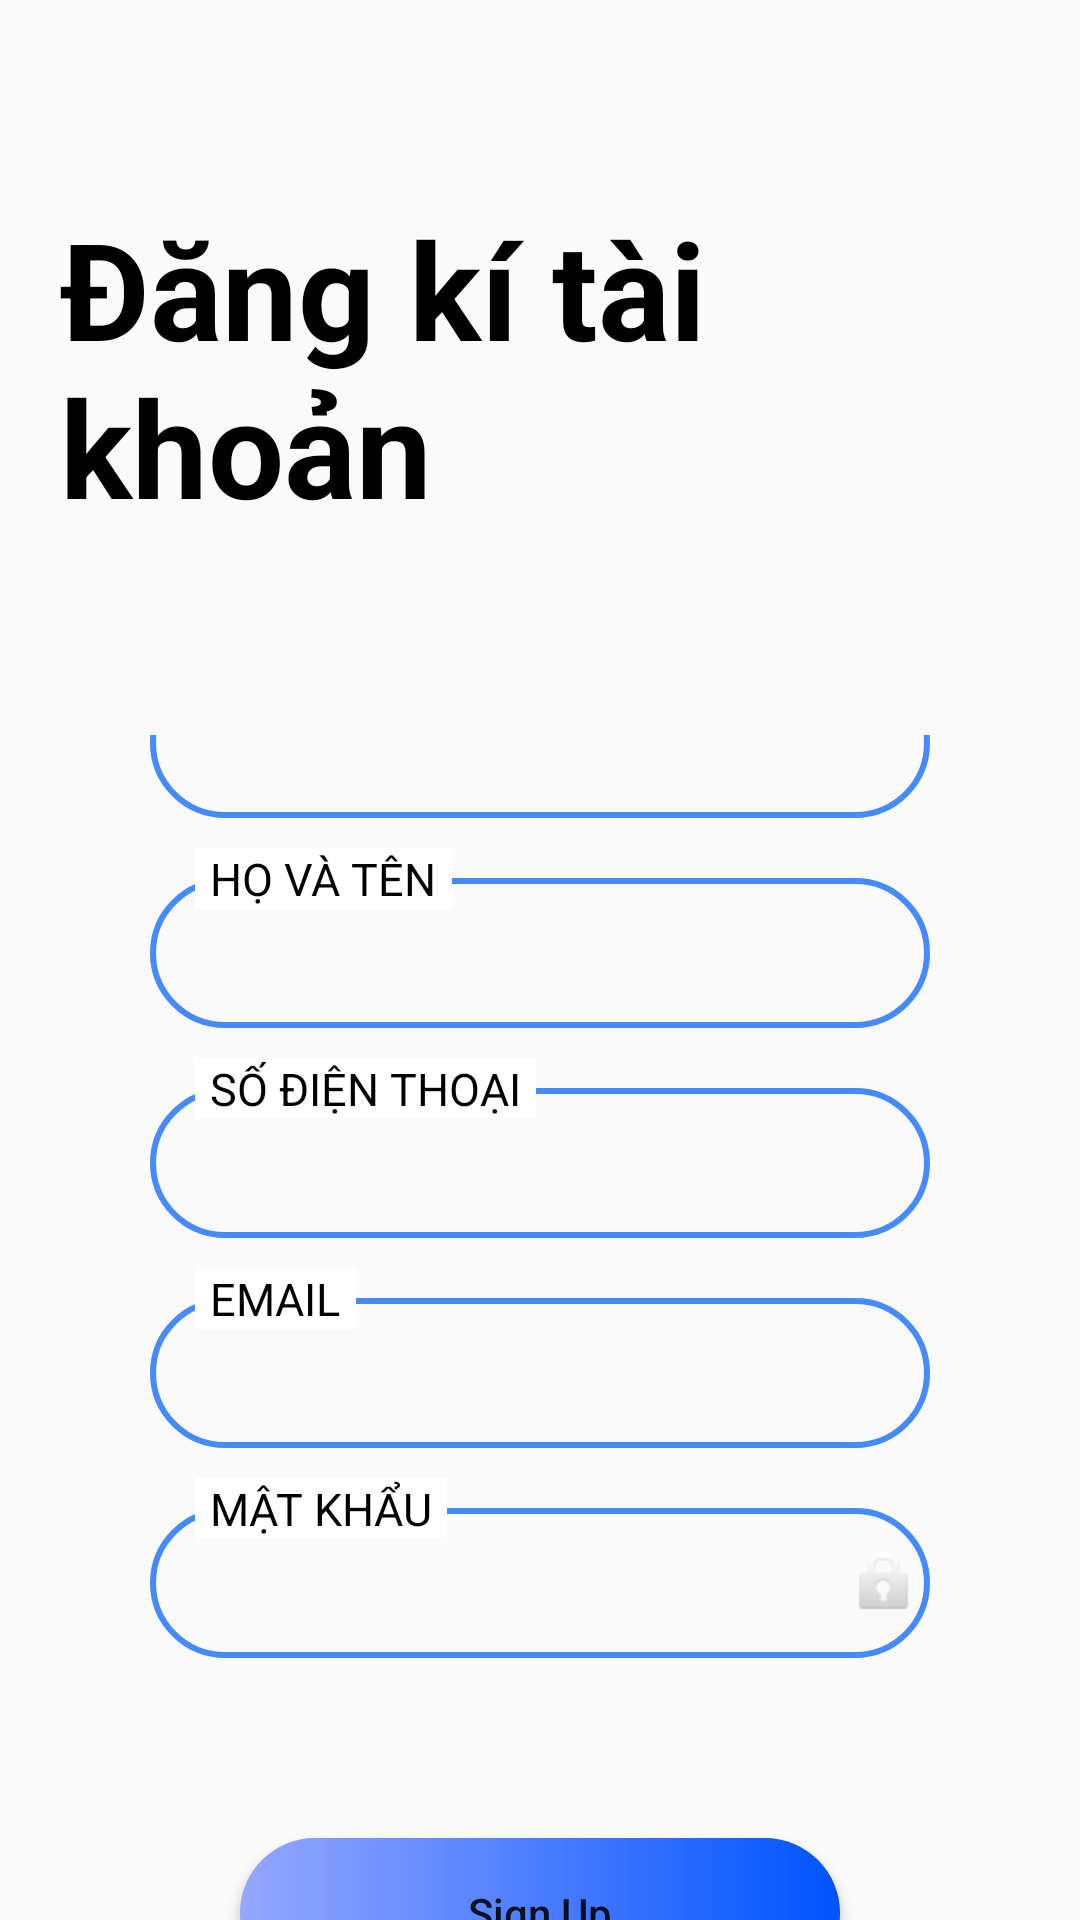

Icon click points for this 1080x1920 phone screenshot, format (x,y):
lock idle: (883,1594)
